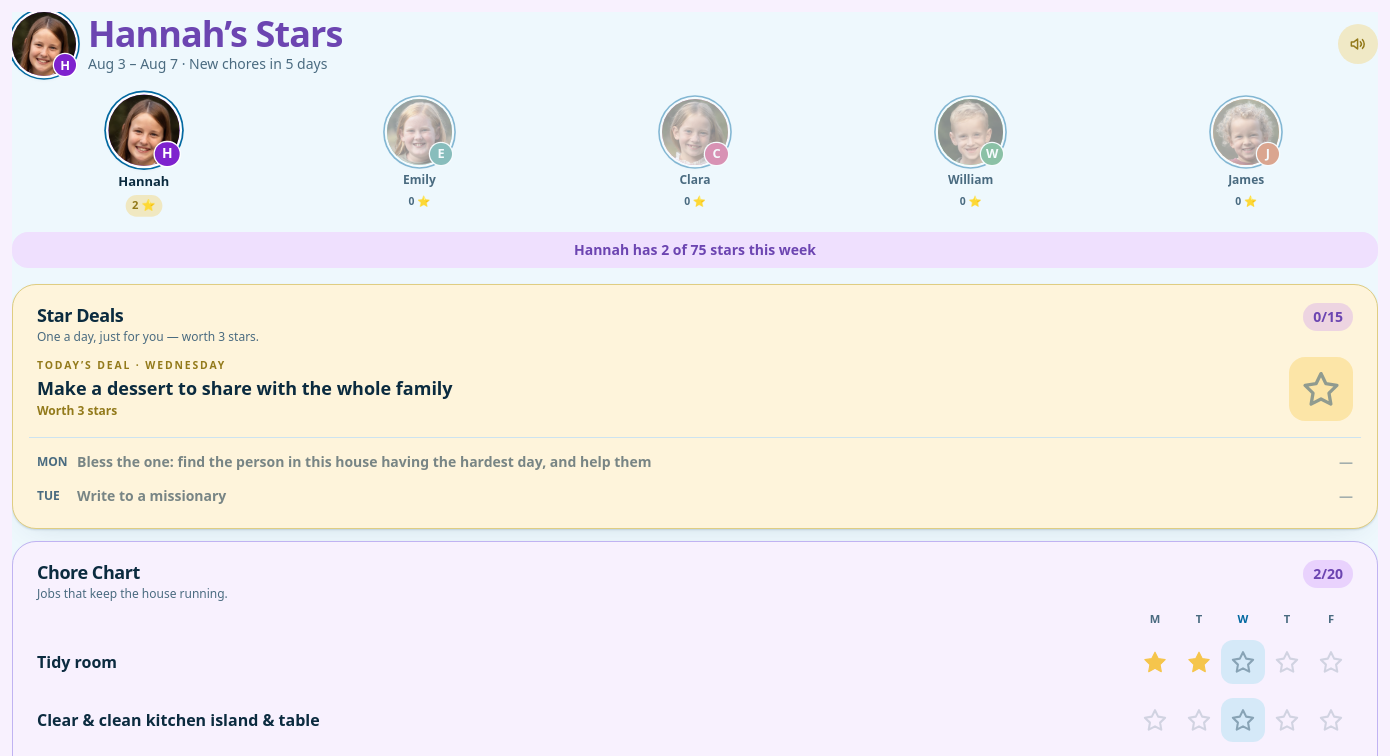
Test case: colouring in a star › counts the week as it goes
Expected: the text "Hannah has 2 of 75 stars this week" is shown, [12,232,1378,268]
Click the switch named "Tidy room on ": (1243, 662) [1221,640,1265,684]
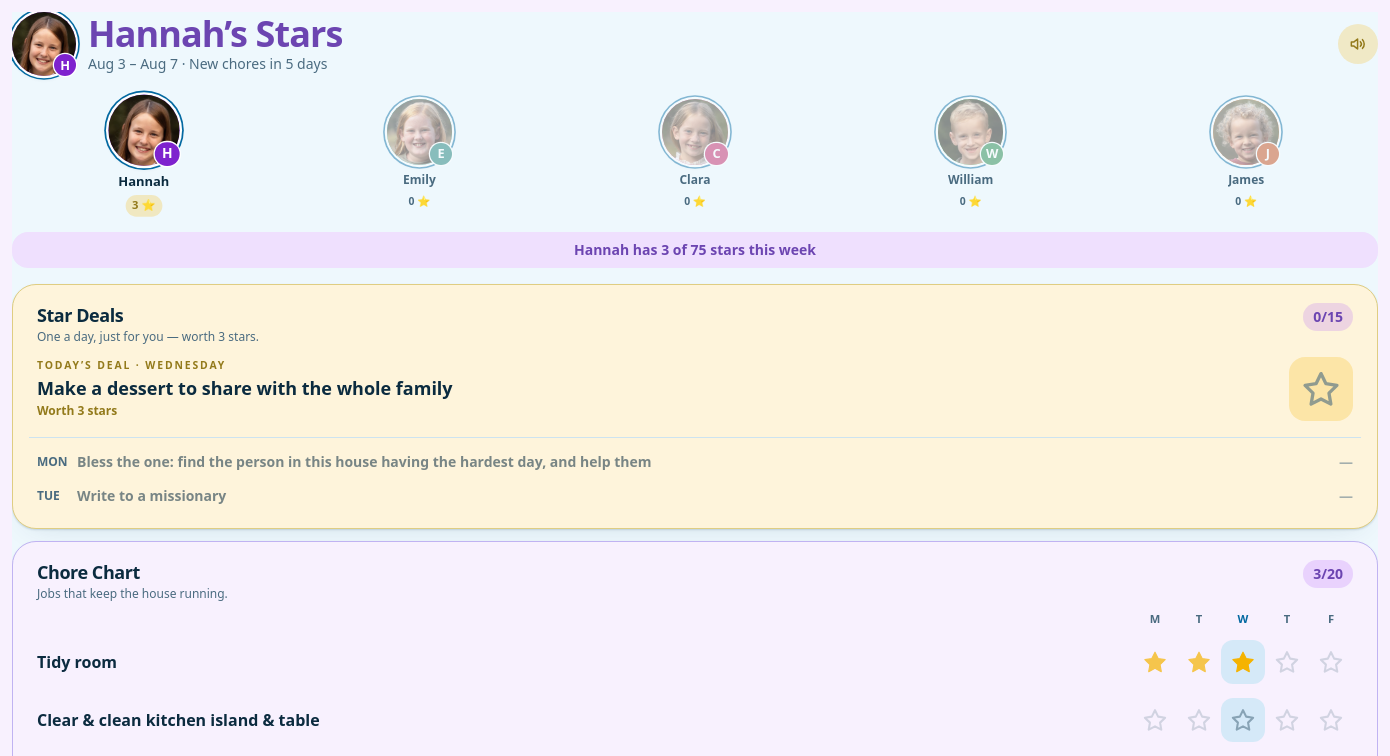
Now the text "Hannah has 3 of 75 stars this week" is shown, box [12,232,1378,268]
